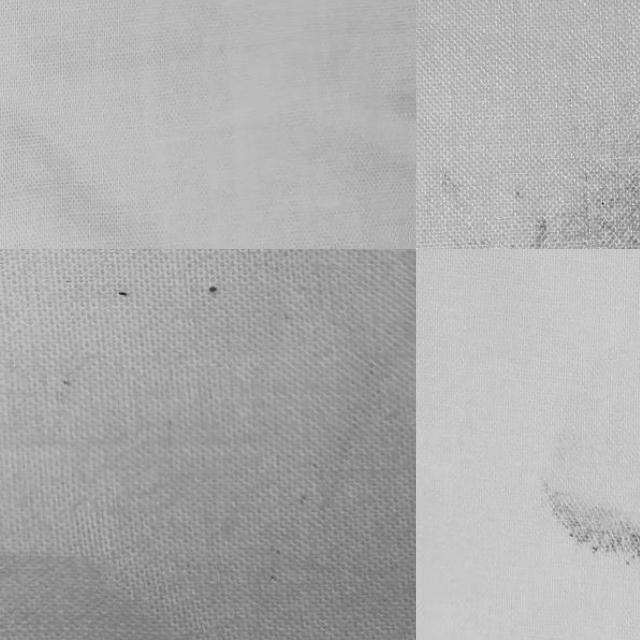Hole: (63, 249, 276, 409), (541, 368, 640, 588)
